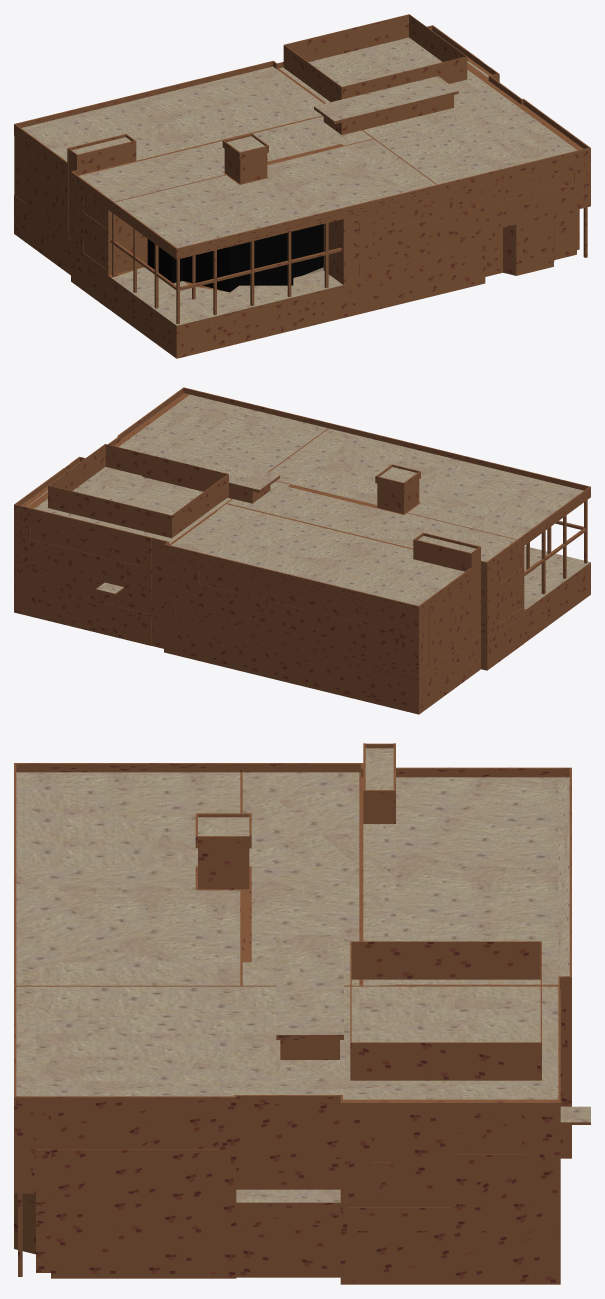
Rendered from bts.obj.
The picture shows the model from 3 angles, top to bottom: view 1: azimuth 30°, elevation 25°; view 2: azimuth 150°, elevation 25°; view 3: azimuth 270°, elevation 25°; orthographic projection. The views are drawn at different scales.
Parts seen in each view (by area): view 1: No_Name; view 2: No_Name; view 3: No_Name.
Boxes of the visible parts, x1,y1,x2,y2 form: No_Name: [14, 14, 590, 358]; No_Name: [14, 387, 590, 714]; No_Name: [14, 743, 590, 1284].
Bounding box in the file's own units: 10.07 × 3.07 × 7.1.
